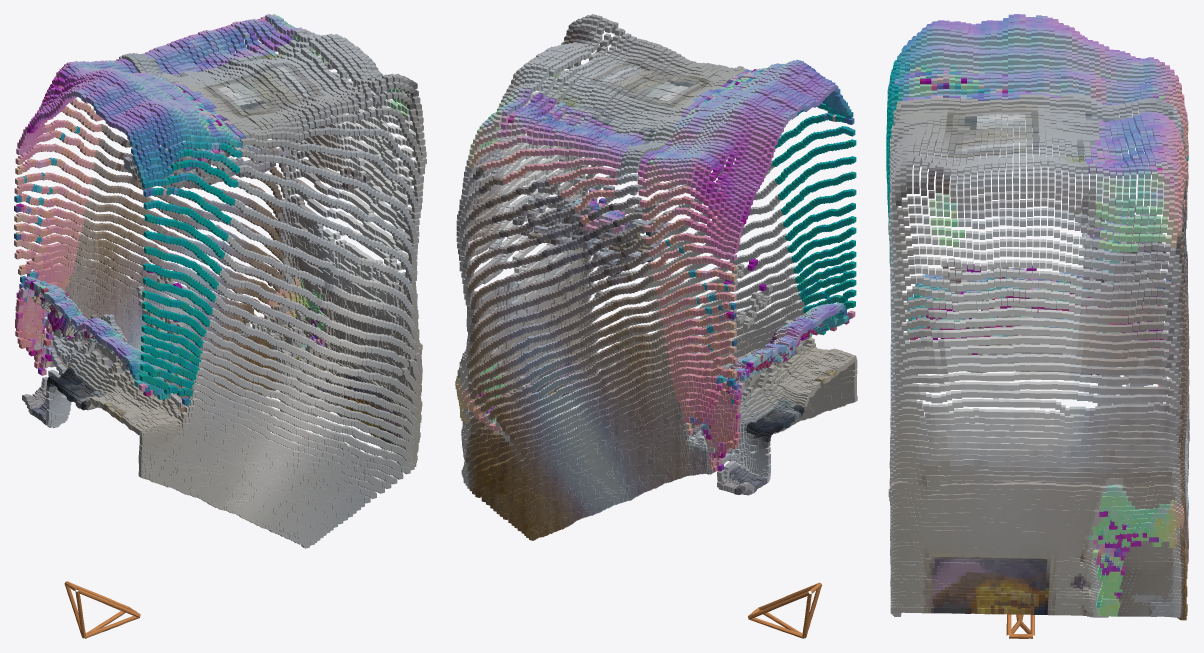
The model's file is pred_1-compressed.glb.
The picture shows the model from 3 angles, left to right: view 1: azimuth 30°, elevation 25°; view 2: azimuth 150°, elevation 25°; view 3: azimuth 270°, elevation 25°; orthographic projection. The views are drawn at different scales.
Size of the model in its own units: 3.38 by 5.74 by 2.53.
